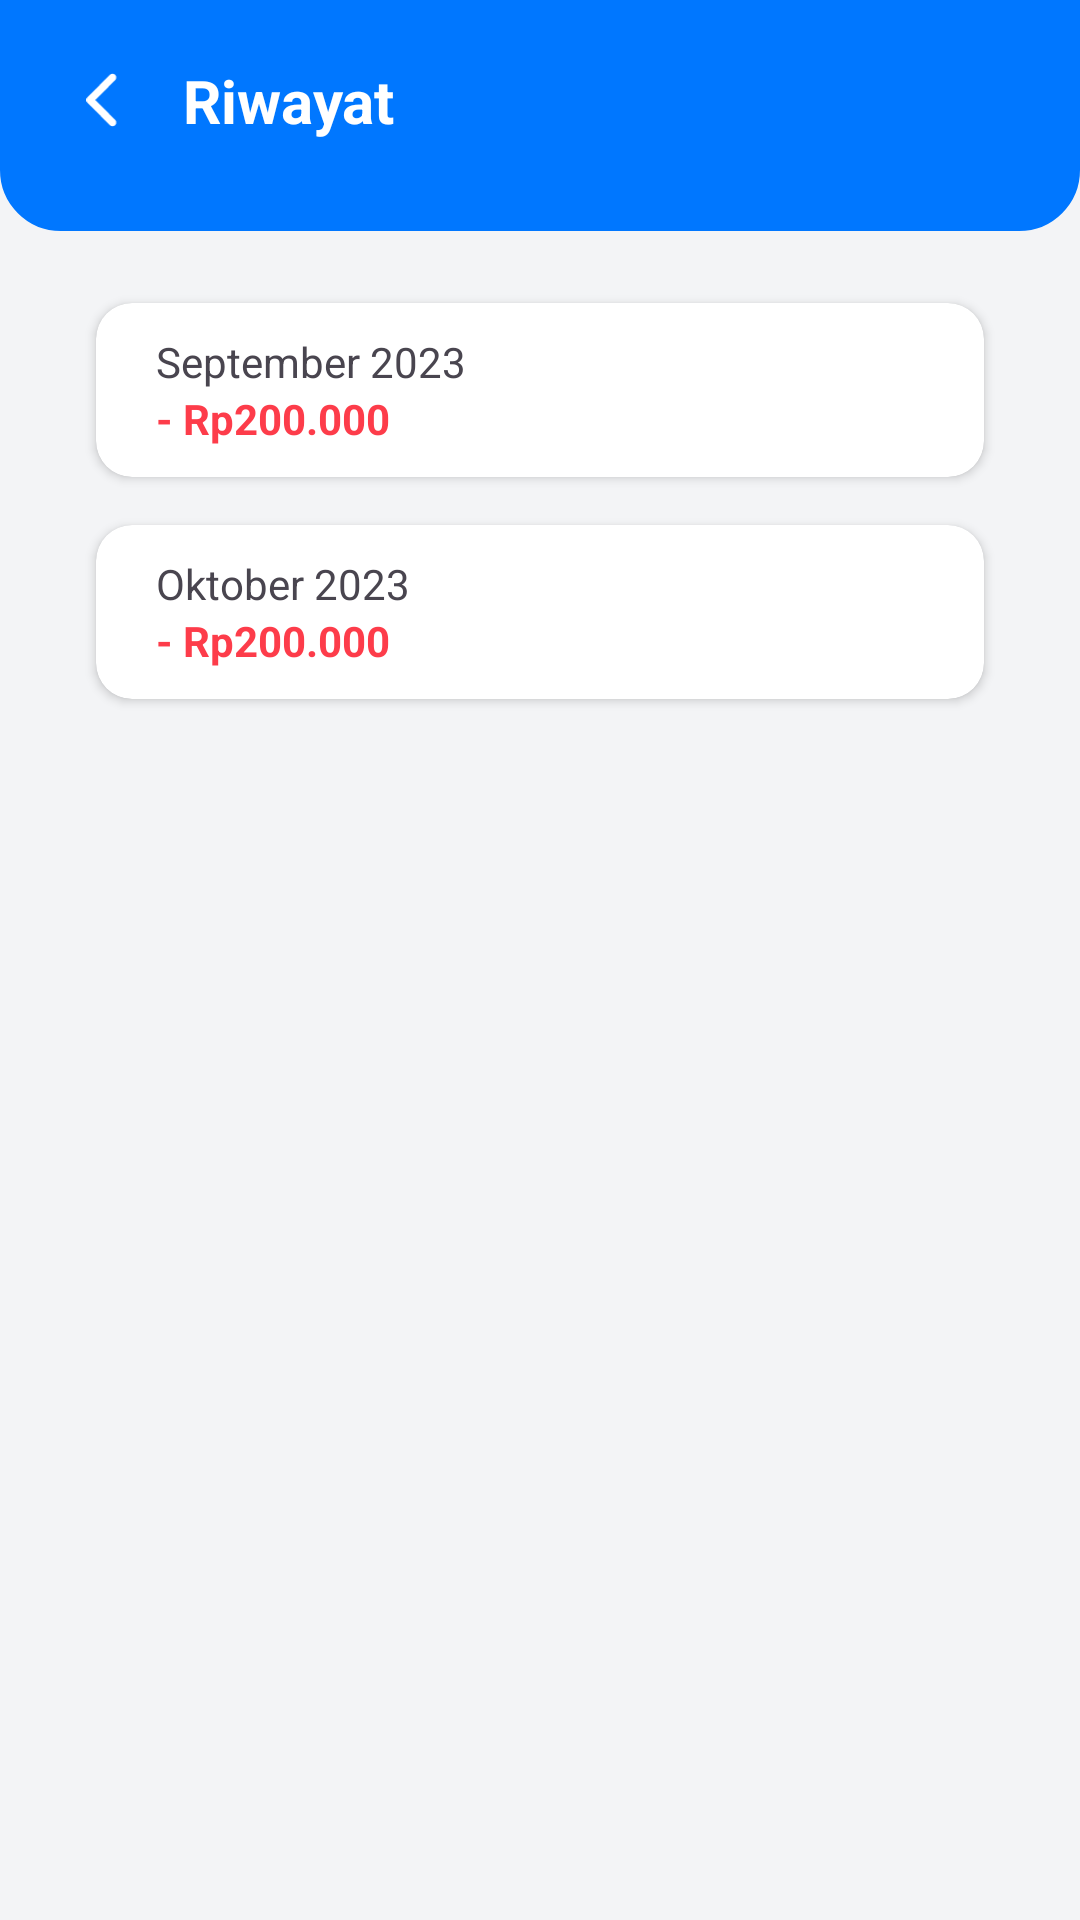

Icons on this 1080×1920 Android screen, each with its box as (x1, y1, x2, y2):
chevron left: (86, 73, 117, 127)
